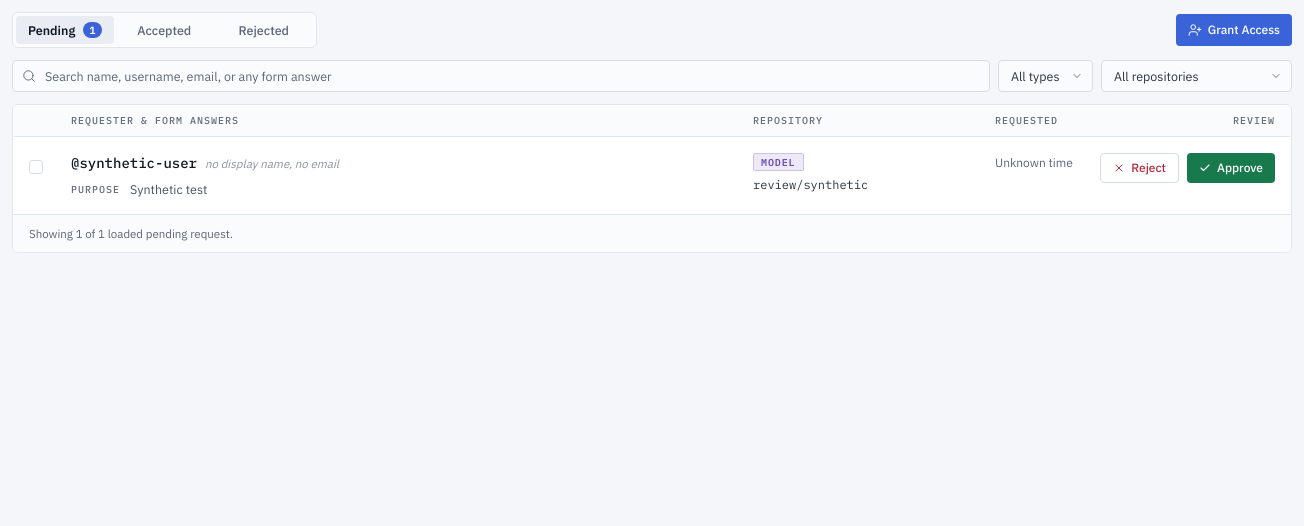
Test case: real dashboard integration › does not render previous-tab actions after a failed tab load
Expected: the link "@synthetic-user" is shown, [71,153,197,173]
Press the mouse on the tab "Accepted" at (164, 30), box [116,16,213,44]
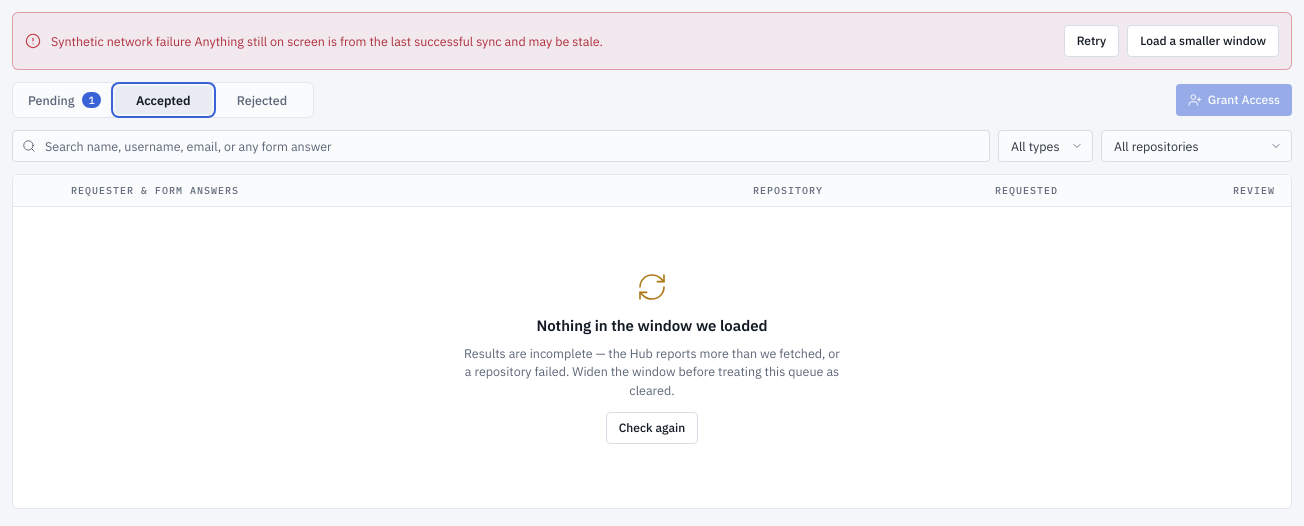
Now the message is shown, box [12,12,1292,70]
Now the link "@synthetic-user" is gone
Now the button "Approve" is gone
